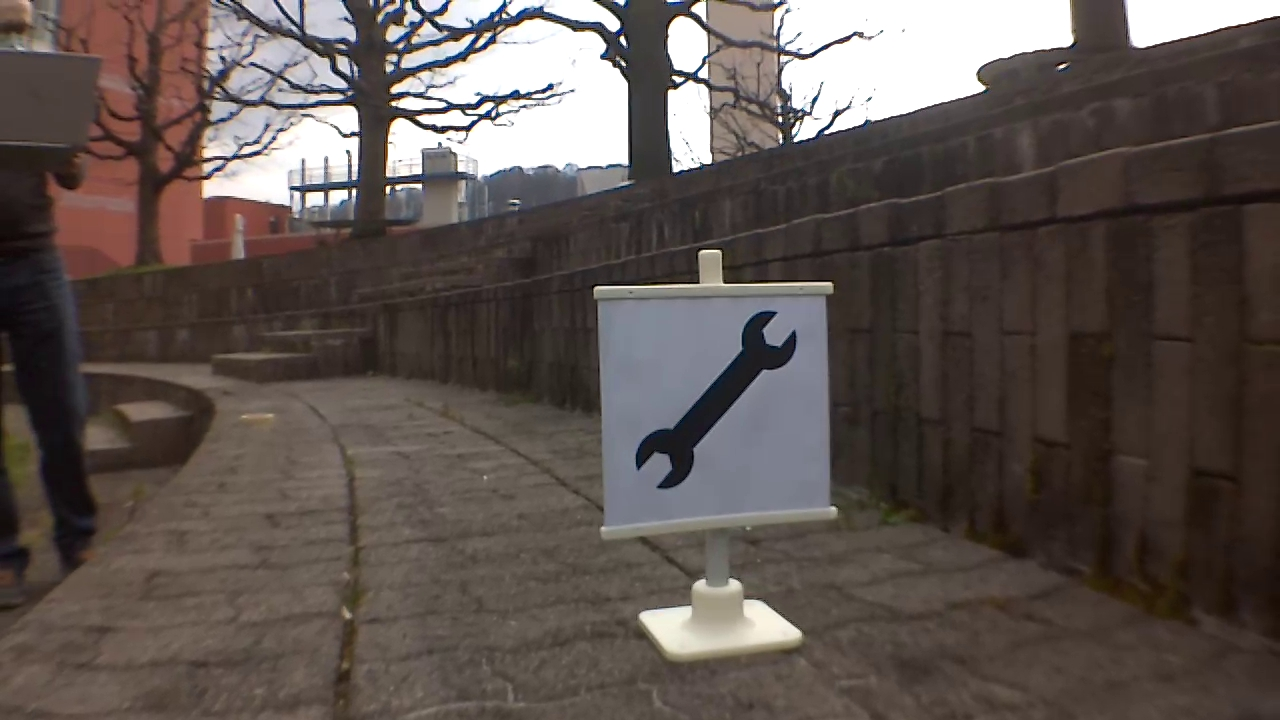wrench: (633, 304, 803, 498)
